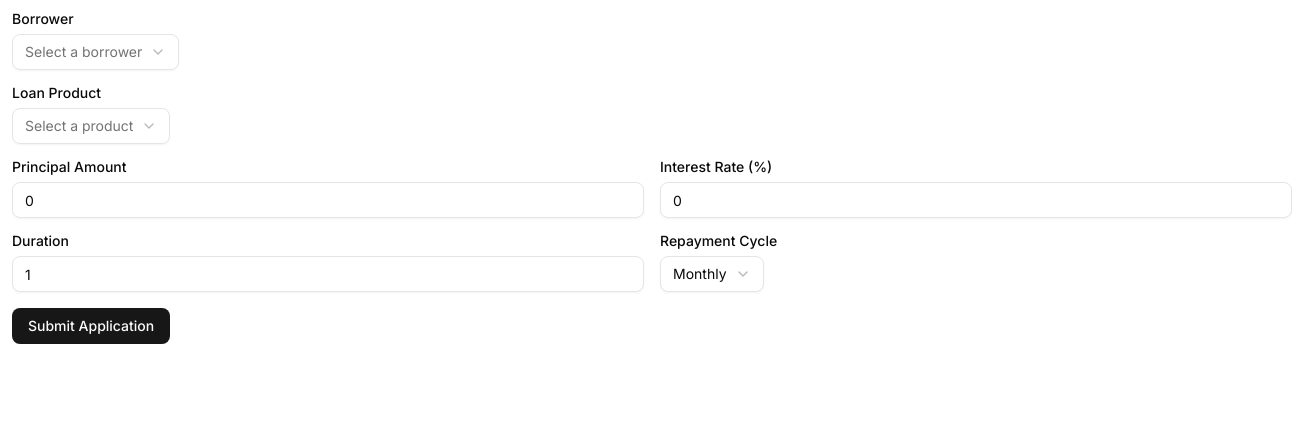
Test: LoanForm › Form Validation › validates required fields on submit
Click the button "Submit Application": (91, 326) [12, 308, 170, 344]
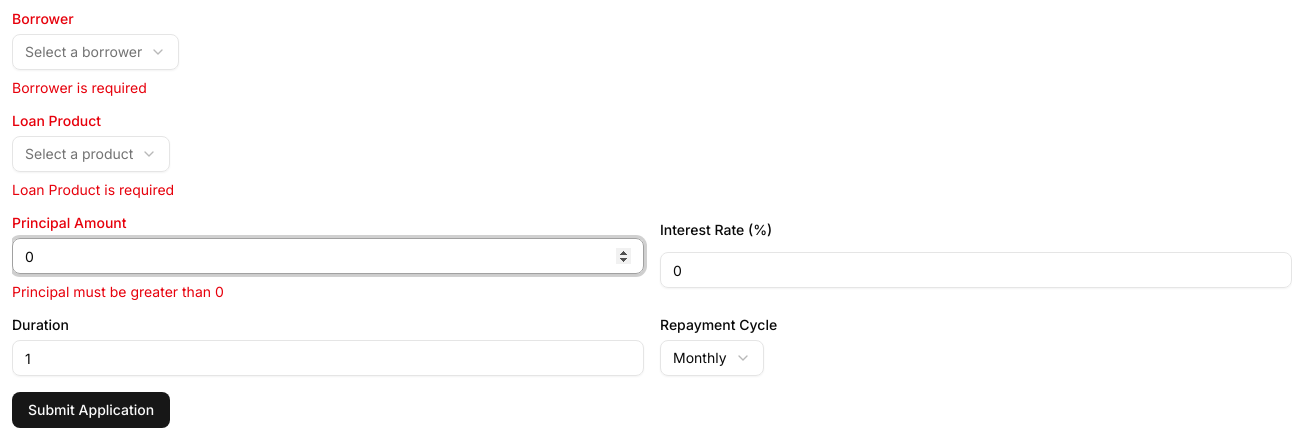
Expected: the text "Borrower is required" is shown, [12, 79, 147, 96]
Expected: the text "Loan Product is required" is shown, [12, 181, 174, 198]
